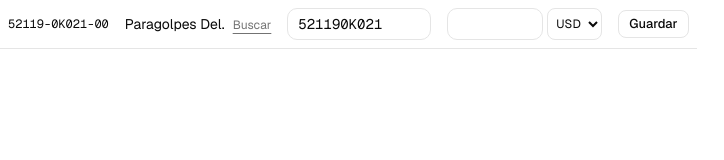
Test case: sin precio guardado propone el codigo de Orion y manda todo al guardar
The width and height of the screenshot is (724, 160).
Expected: the field named "Numero de parte de Paragolpes Del." holds "521190K021", [287,8,431,40]
Type "175,59" into the field named "Precio de Paragolpes Del." at coordinates (495, 24), box [447,8,543,40]
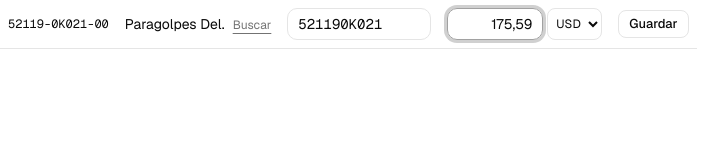
Select "ARS" in the dropdown named "Moneda de Paragolpes Del." at coordinates (575, 24), box [547,8,602,40]
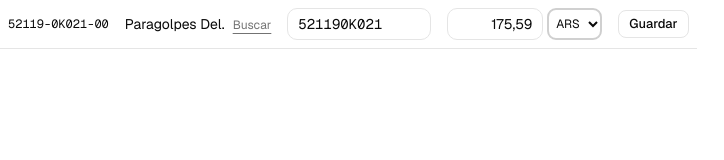
Click the button "Guardar" at coordinates (653, 24), box [618,10,689,38]
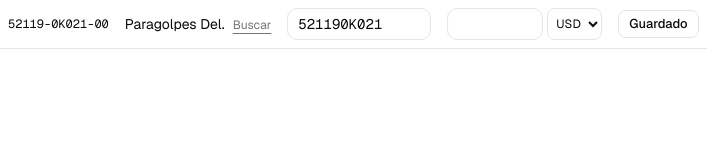
Expected: the button "Guardado" is shown, [618,10,699,38]
